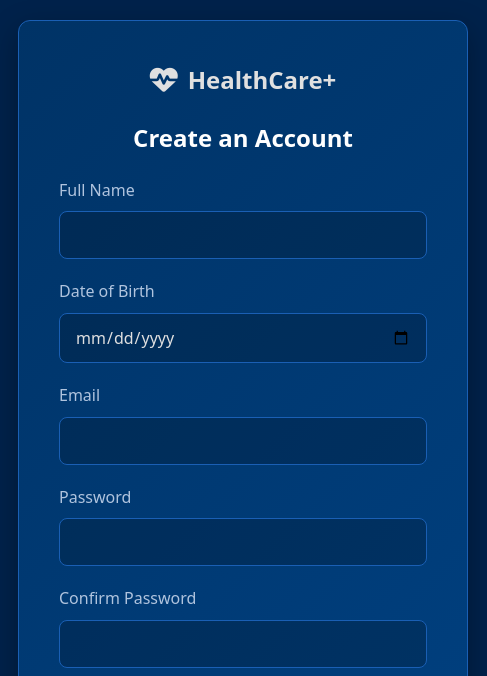
Test: Register page › shows validation error when passwords do not match
Step 1. Type "New Patient" into the field labelled "Full Name" → (243, 235), box 59,211 -> 427,259
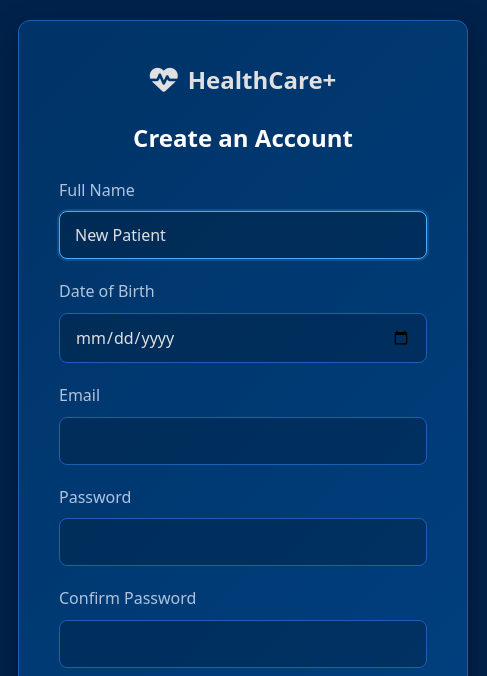
Step 2. Type "new@healthcare.local" into the field labelled "Email" → (243, 441), box 59,417 -> 427,465
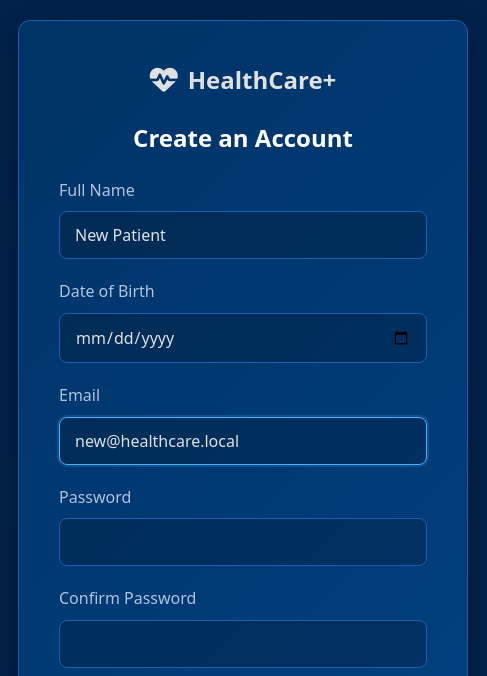
Step 3. Type "pass123" into the password field labelled "Password" → (243, 542), box 59,518 -> 427,566
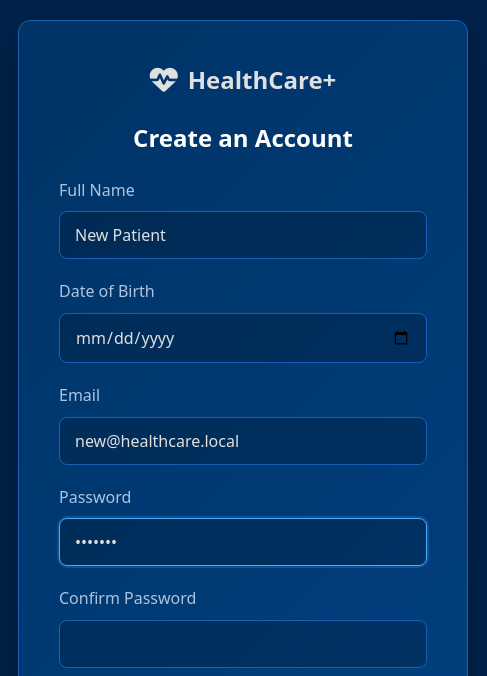
Step 4. Type "different123" into the password field labelled "Confirm Password" → (243, 644), box 59,620 -> 427,668
(page scrolled)
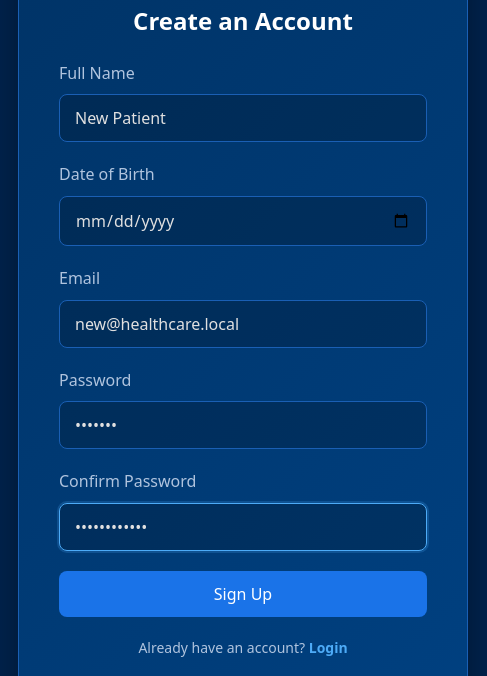
Step 5. Click the button "Sign Up" → (243, 594), box 59,571 -> 427,617
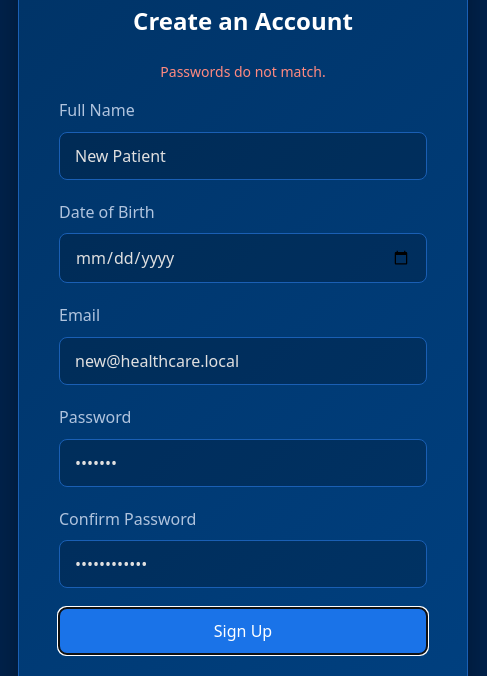
Check: the text "Passwords do not match." is shown, box 160,62 -> 326,81
